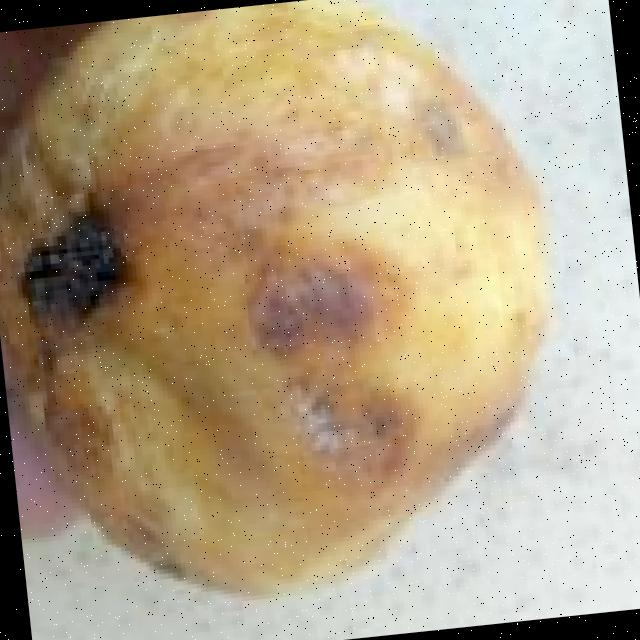Bad_Guava 0 day: (0, 0, 548, 590)
